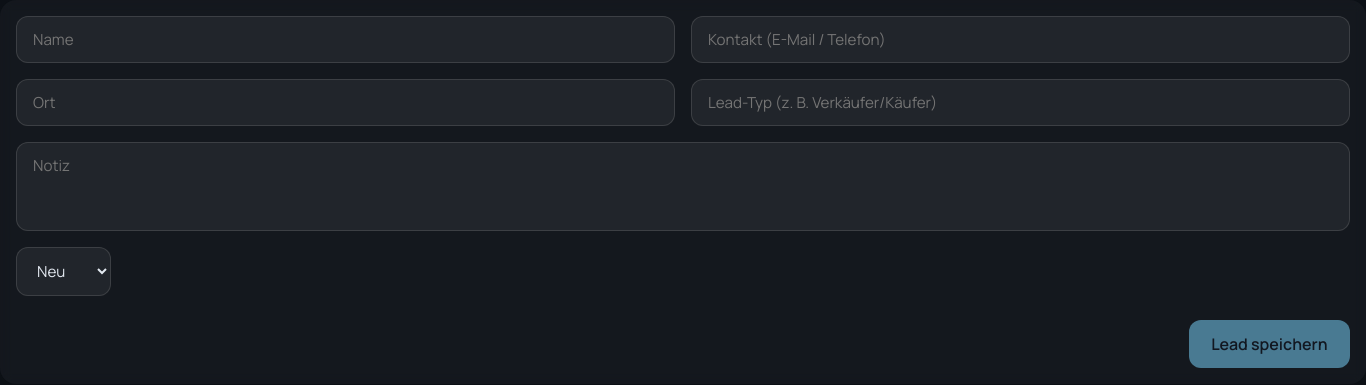
Test: LeadForm › Form Input Handling › should enable submit button when name is entered
The image size is (1366, 385).
Expected: the button "Lead speichern" is disabled, [1189,320,1350,368]
Type "Test User" into the field with placeholder "Name" at (346, 40), box [16,16,675,63]
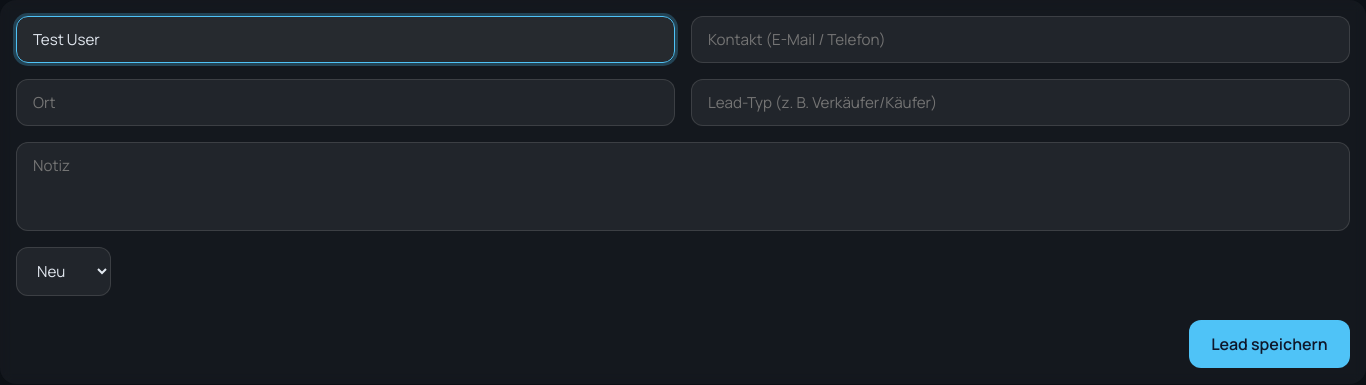
Expected: the button "Lead speichern" is enabled, [1189,320,1350,368]
